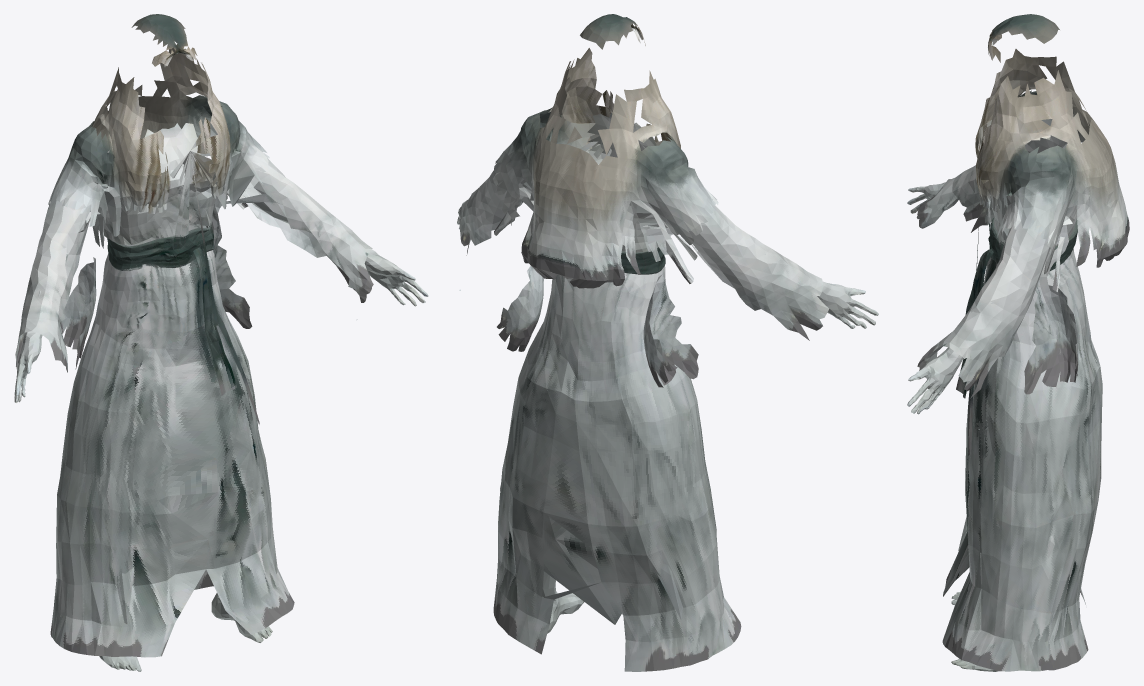
File: ewm_t2ghostf_outfit.glb
3 renders of one model, left to right at view 1: azimuth 30°, elevation 25°; view 2: azimuth 150°, elevation 25°; view 3: azimuth 270°, elevation 25°, orthographic.
Parts seen in each view (by area): view 1: ewm_t2ghostf_outfit; view 2: ewm_t2ghostf_outfit; view 3: ewm_t2ghostf_outfit.
Part boxes in pixels (x1,y1,x2,y2): ewm_t2ghostf_outfit: (14, 14, 428, 671); ewm_t2ghostf_outfit: (457, 14, 878, 671); ewm_t2ghostf_outfit: (907, 14, 1129, 671).
Size of the model in its own units: 1.31 by 1.87 by 0.6105.
1 material, 1 textured.
